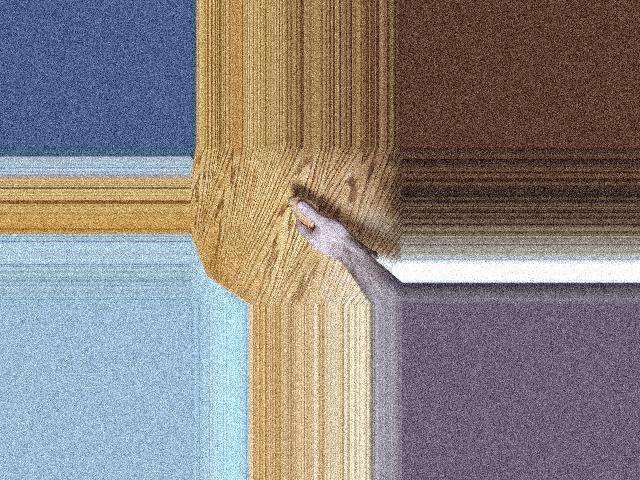sweet_potato: (287, 195, 382, 266)
